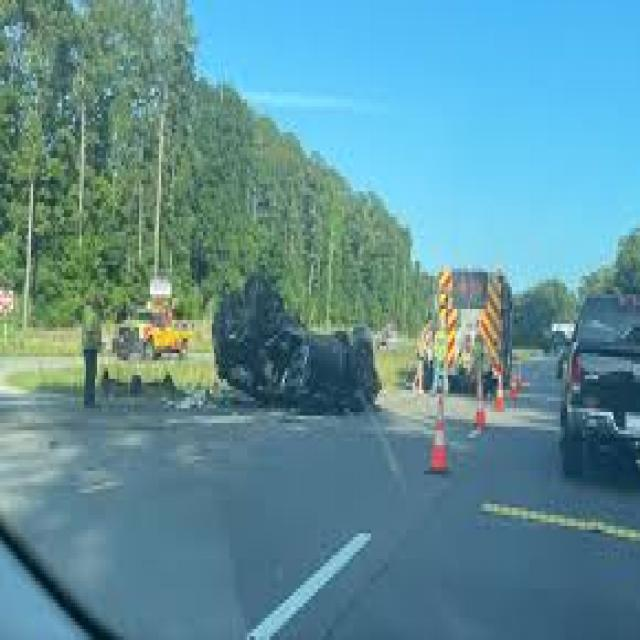accident: (206, 266, 391, 427)
